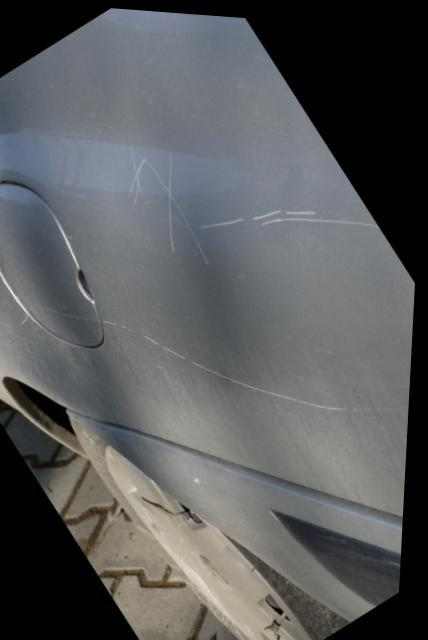crack: (146, 493, 193, 513), (270, 613, 288, 640)
scratch: (125, 141, 386, 262), (105, 316, 364, 404)
